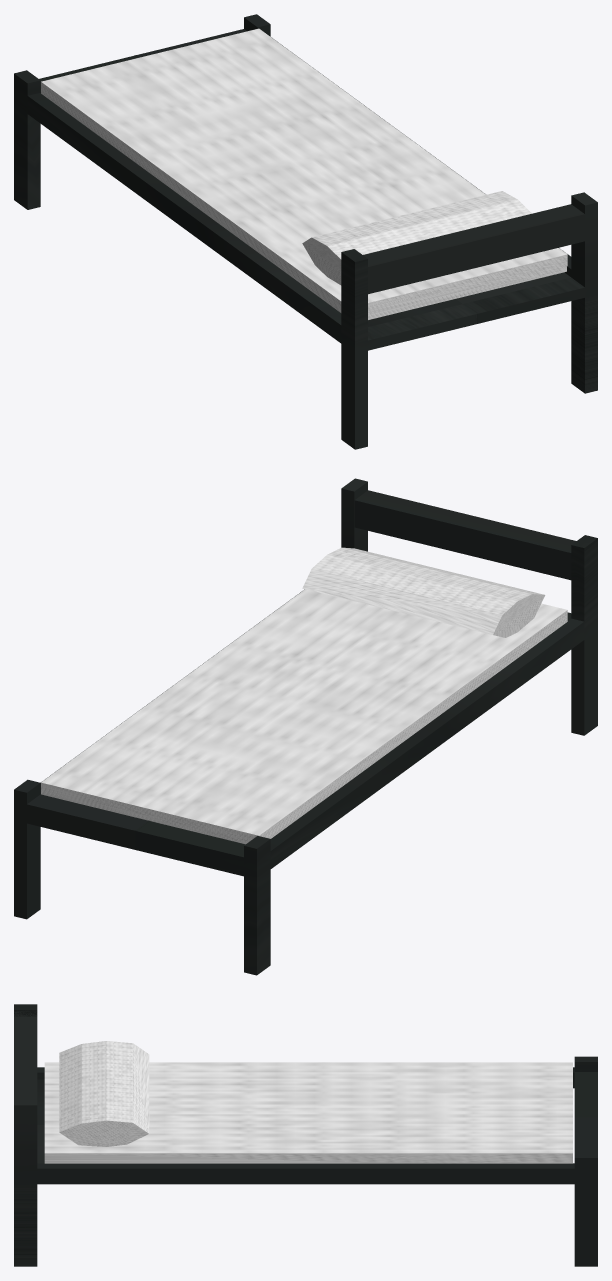
File: bed.fbx
3 renders of one model, top to bottom at view 1: azimuth 30°, elevation 25°; view 2: azimuth 150°, elevation 25°; view 3: azimuth 270°, elevation 25°, orthographic. The views are drawn at different scales.
Visible parts, largest first — view 1: colchon, cama, almohada; view 2: colchon, cama, almohada; view 3: colchon, cama, almohada.
Boxes of the visible parts, x1,y1,x2,y2 form: colchon: (41,28,567,319); cama: (14,14,597,449); almohada: (302,191,531,285); colchon: (41,589,567,844); cama: (14,478,597,975); almohada: (302,547,545,637); colchon: (44,1062,572,1163); cama: (14,1004,597,1266); almohada: (59,1041,149,1146).
Bounding box in the file's own units: 784 × 580 × 1907.
Materials: 3 (3 with a texture image).
